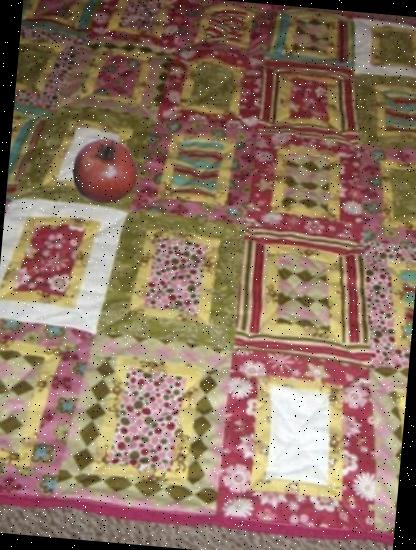Pomegranate: (70, 136, 141, 208)
